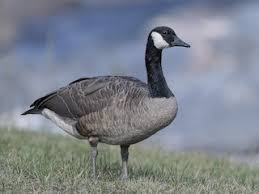goose: (18, 23, 194, 182)
